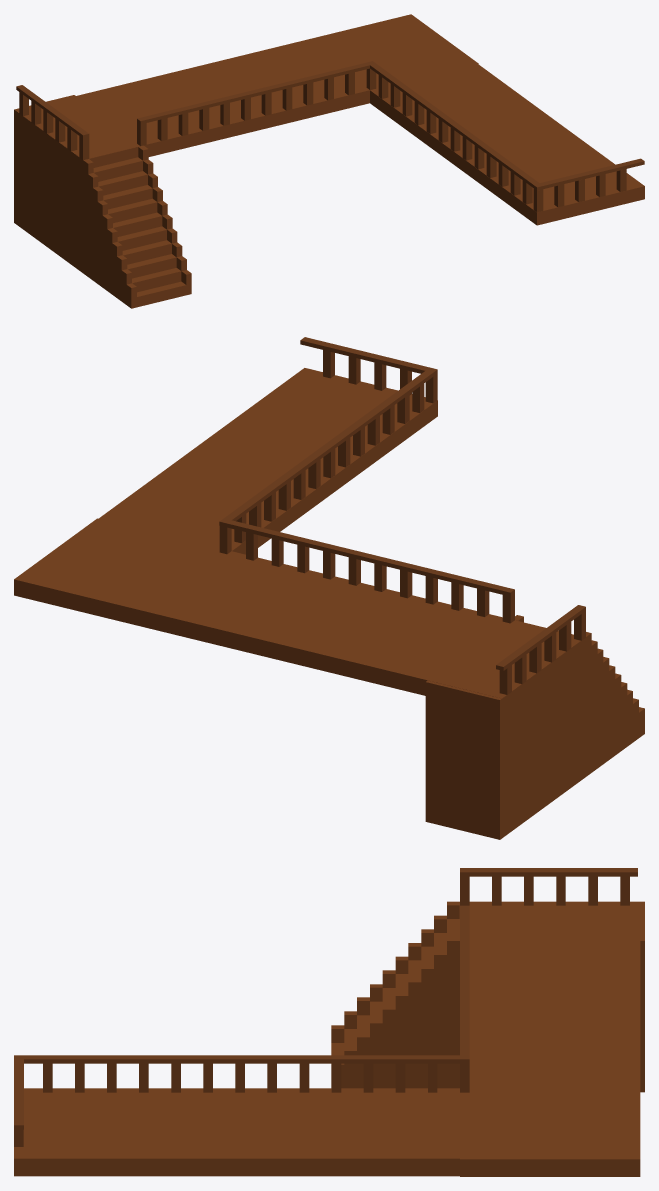
Rendered from M_EtageSalleReception.fbx.
The picture shows the model from 3 angles, top to bottom: view 1: azimuth 30°, elevation 25°; view 2: azimuth 150°, elevation 25°; view 3: azimuth 270°, elevation 25°; orthographic projection. The views are drawn at different scales.
Visible parts, largest first — view 1: Cube.003; view 2: Cube.003; view 3: Cube.003.
Part boxes in pixels (<box>): Cube.003: <box>14,14,644,308</box>; Cube.003: <box>14,337,644,839</box>; Cube.003: <box>14,868,644,1176</box>.
Size of the model in its own units: 3805 by 1270 by 3934.
